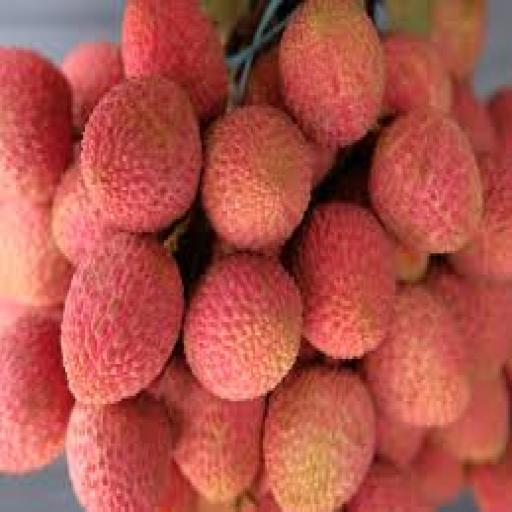lychee: (62, 235, 183, 406), (82, 77, 201, 232), (184, 254, 302, 401), (370, 109, 482, 253), (263, 367, 375, 511), (202, 106, 312, 250), (295, 201, 395, 358), (279, 0, 385, 147), (157, 359, 264, 501), (366, 286, 470, 427), (123, 0, 227, 121), (66, 396, 173, 511), (0, 312, 73, 475), (0, 48, 71, 203), (427, 267, 511, 380), (451, 154, 511, 282), (0, 201, 73, 306), (433, 375, 510, 464), (52, 164, 116, 266), (62, 43, 124, 134), (384, 35, 452, 113), (429, 0, 486, 79), (346, 462, 432, 511), (410, 441, 464, 506), (453, 82, 498, 155), (469, 449, 511, 511), (376, 415, 426, 467), (246, 45, 286, 110), (157, 462, 197, 511), (392, 238, 428, 282), (489, 88, 511, 153)
